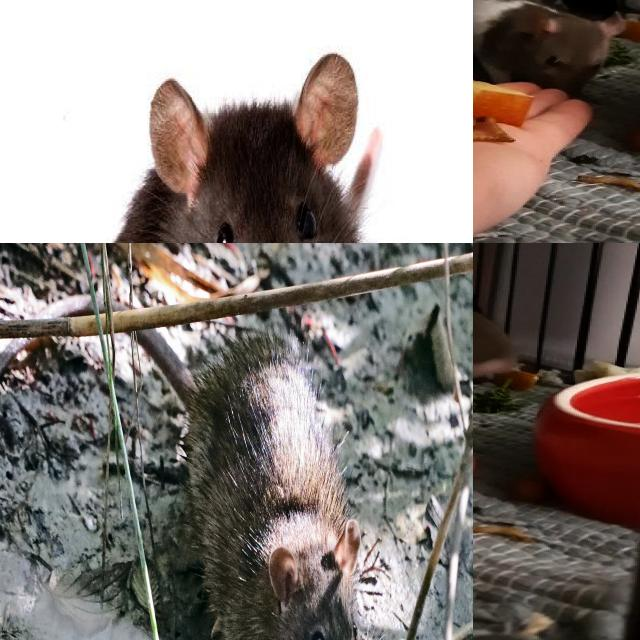rat: (88, 47, 417, 243), (181, 325, 366, 640), (473, 0, 626, 95)
